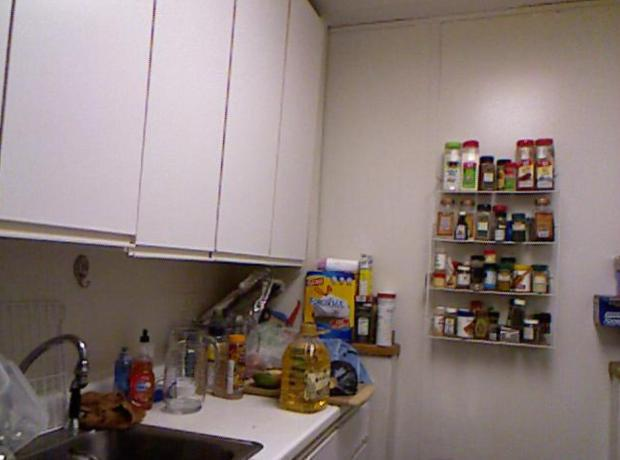Lavaplatos: (7, 328, 266, 458)
